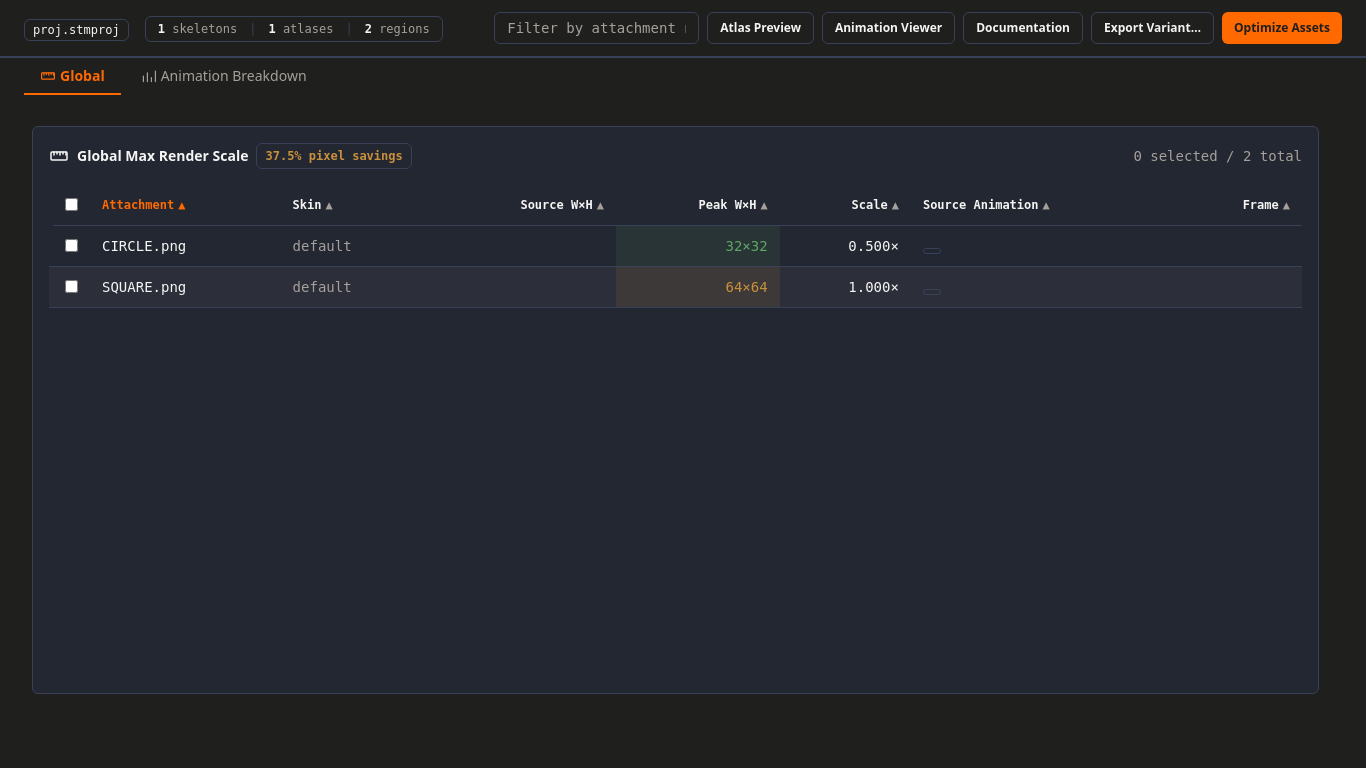
Test: Phase 53 — variantRows persistence (SCALEUI-03) › variant rows restore from initialProject into the Export Variant dialog (SC#1, order preserved)
Open the Export Variant dialog so the lifted rows render as factor inputs.
Click the button "Export Variant…": point(1152, 28) x1=1091 y1=12 x2=1214 y2=44
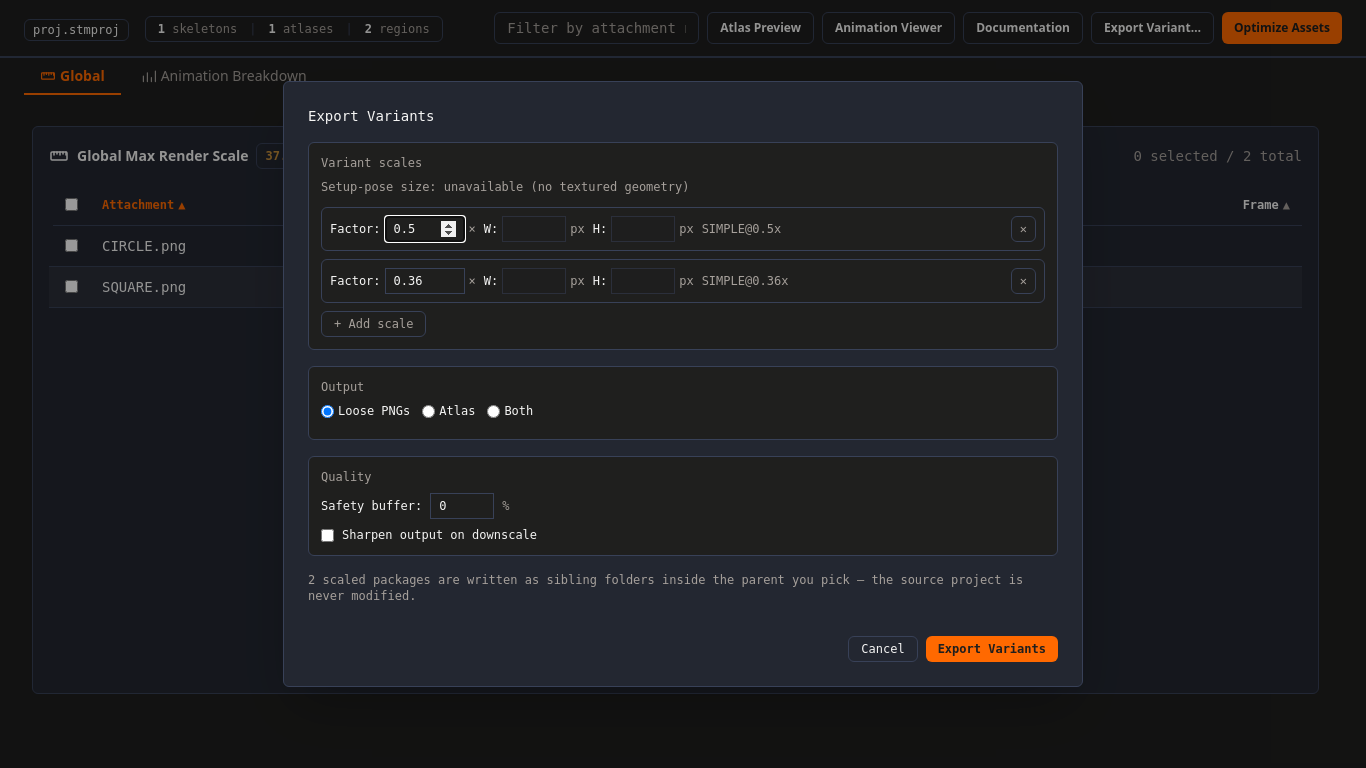
Now the number field with test id "variant-factor-0" holds "0.5", box x1=385 y1=216 x2=465 y2=242
Now the number field with test id "variant-factor-1" holds "0.36", box x1=385 y1=268 x2=465 y2=294
